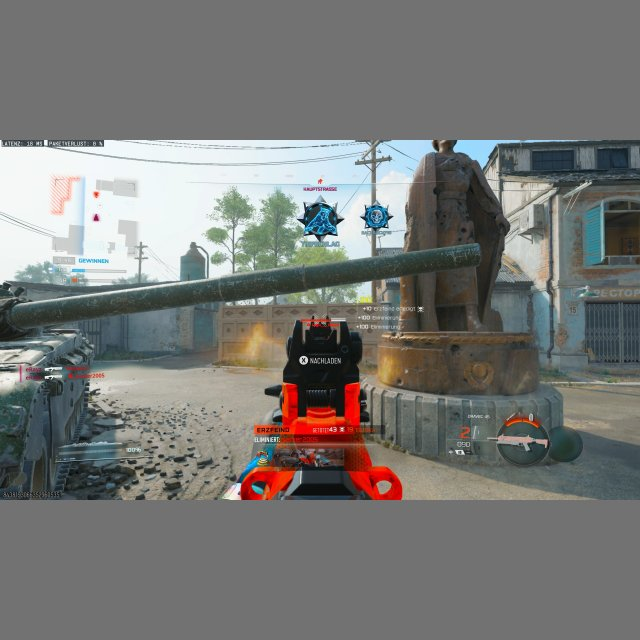player: (0, 281, 30, 341)
